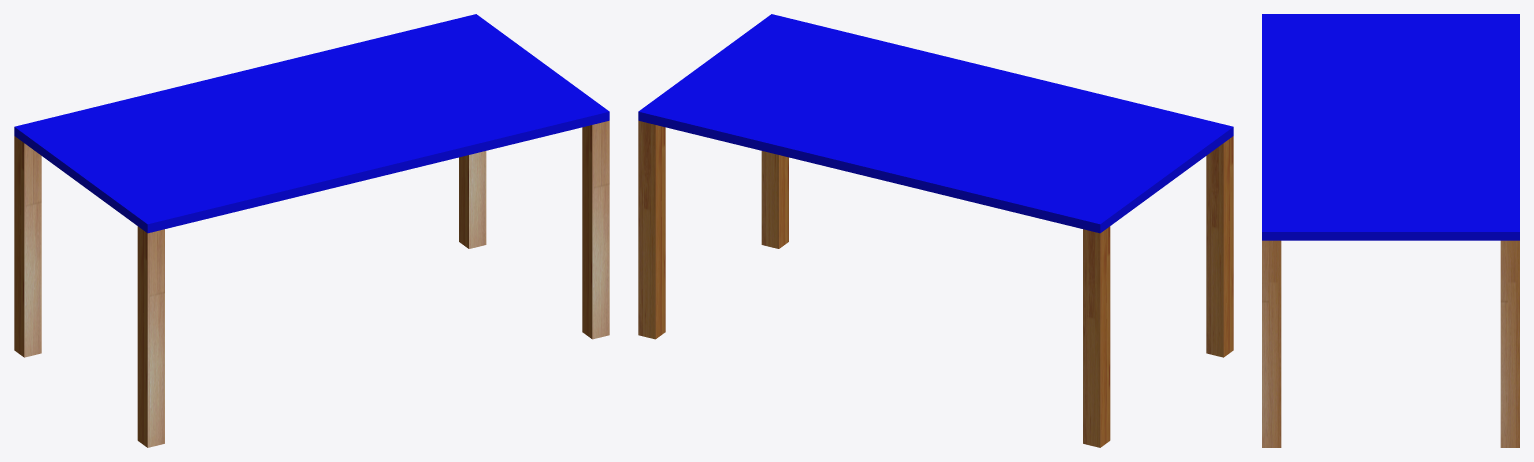
3 renders of one model, left to right at view 1: azimuth 30°, elevation 25°; view 2: azimuth 150°, elevation 25°; view 3: azimuth 270°, elevation 25°, orthographic. The views are drawn at different scales.
Parts seen in each view (by area): view 1: Mesa, Pata3, Pata1, Pata4, Pata2; view 2: Mesa, Pata4, Pata2, Pata3, Pata1; view 3: Mesa, Pata2, Pata1.
Part boxes in pixels (x1,y1,x2,y2): Mesa: (14,14,609,233); Pata3: (137,226,164,447); Pata1: (582,120,609,339); Pata4: (14,136,41,357); Pata2: (459,151,486,248); Mesa: (638,14,1233,233); Pata4: (1083,226,1110,447); Pata2: (638,120,665,339); Pata3: (1206,136,1233,357); Pata1: (761,151,788,248); Mesa: (1262,14,1519,240); Pata2: (1500,240,1519,447); Pata1: (1262,240,1281,447).
Size of the model in its own units: 1.6 by 0.8 by 0.74.
5 materials, 4 textured.
